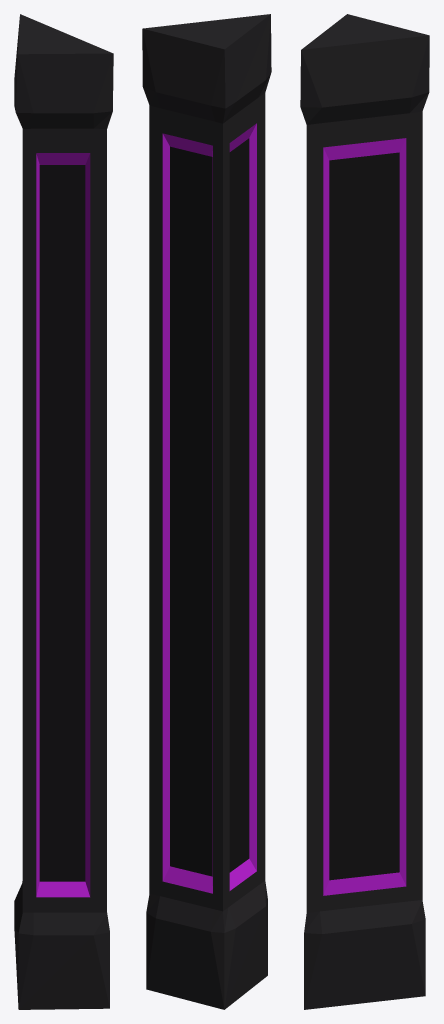
File: Wall_Beam_Triangle.fbx
3 views of the same model, side by side, from view 1: azimuth 90°, elevation 25°; view 2: azimuth 150°, elevation 25°; view 3: azimuth 330°, elevation 25° (orthographic).
Visible parts, largest first — view 1: Wall_Beam_Triangle; view 2: Wall_Beam_Triangle; view 3: Wall_Beam_Triangle.
Boxes of the visible parts, left/top/right/bottom form: Wall_Beam_Triangle: left=14, top=14, right=113, bottom=1009; Wall_Beam_Triangle: left=142, top=14, right=271, bottom=1009; Wall_Beam_Triangle: left=300, top=14, right=429, bottom=1009.
Bounding box in the file's own units: 47.09 × 500 × 47.09.
